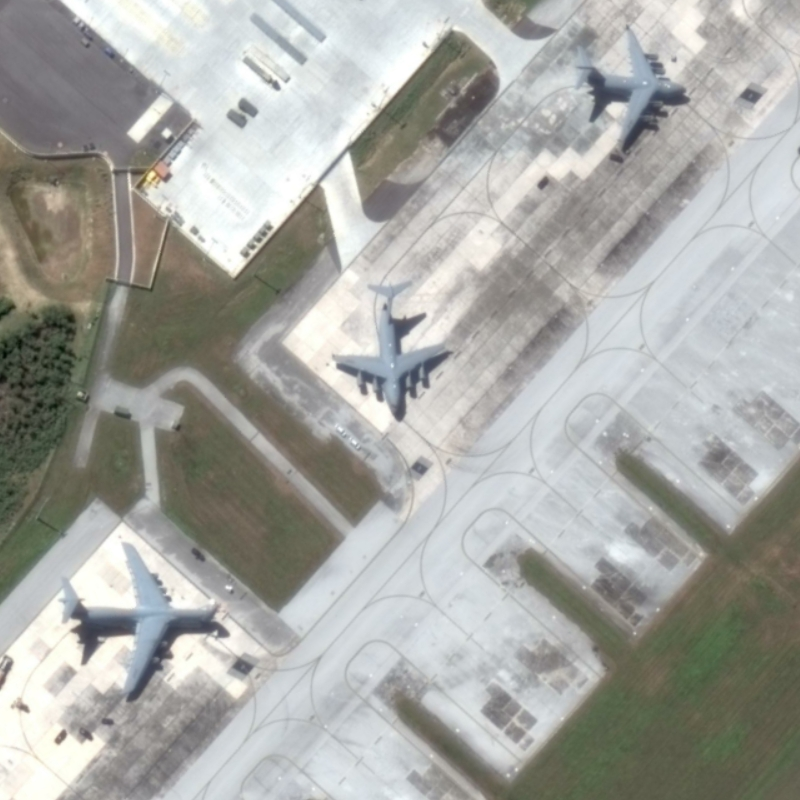A3: (332, 277, 453, 422), (571, 21, 691, 155)
A4: (53, 539, 219, 698)
